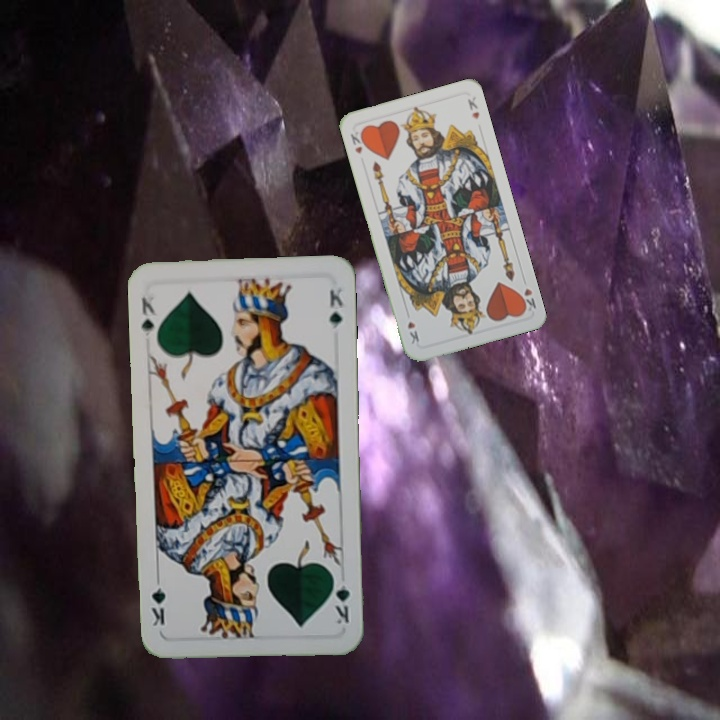GK: (329, 570, 353, 627), (137, 292, 159, 339)
HK: (515, 274, 539, 316), (346, 126, 369, 157)
